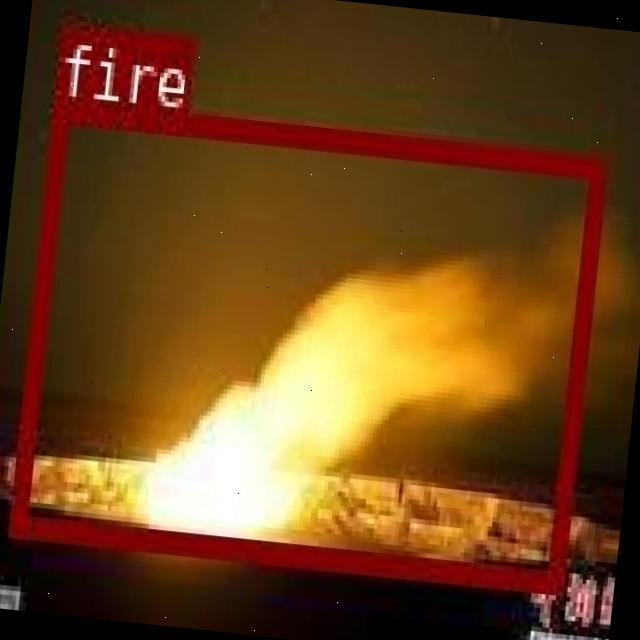fire: (6, 98, 606, 590)
